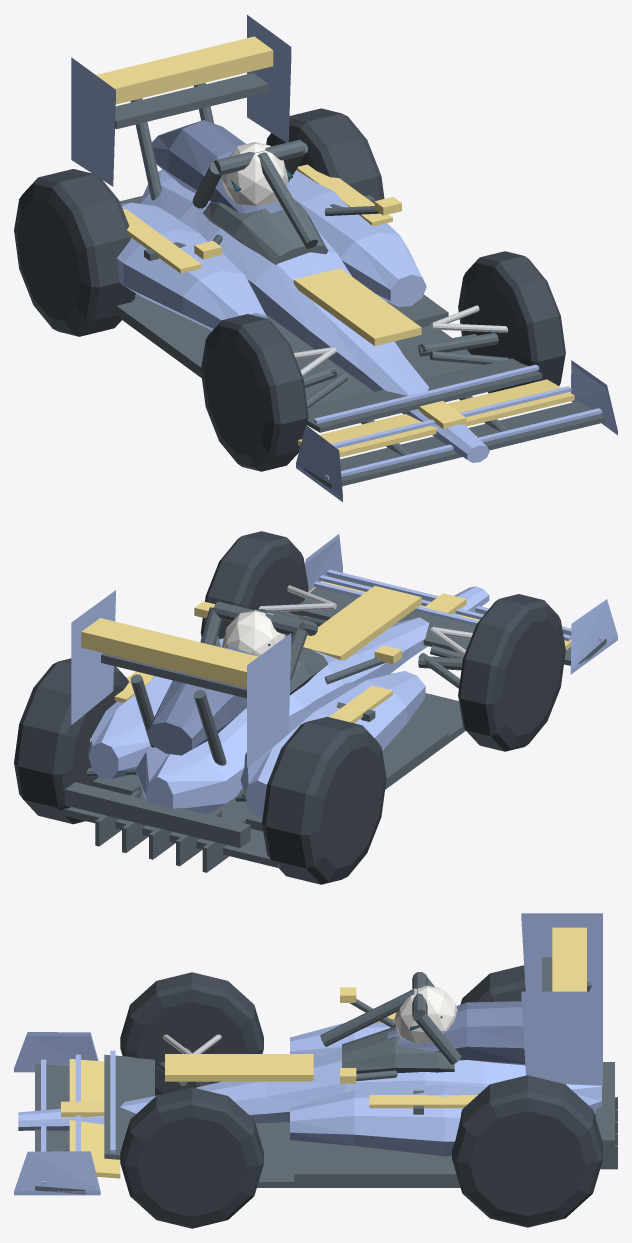
File: redbull_mobile.glb
The picture shows the model from 3 angles, top to bottom: view 1: azimuth 30°, elevation 25°; view 2: azimuth 150°, elevation 25°; view 3: azimuth 270°, elevation 25°; orthographic projection. The views are drawn at different scales.
Visible parts, largest first — view 1: BODY_paint, BODY_carbon, BODY_accent, RearLeftWheel_rubber, FrontLeftWheel_rubber, FrontRightWheel_rubber, RearRightWheel_rubber, BODY_paint_dark, BODY_helmet, BODY_metal; view 2: BODY_paint, BODY_carbon, RearLeftWheel_rubber, FrontLeftWheel_rubber, BODY_accent, RearRightWheel_rubber, FrontRightWheel_rubber, BODY_paint_dark, BODY_helmet, BODY_metal; view 3: BODY_paint, BODY_carbon, RearRightWheel_rubber, FrontRightWheel_rubber, BODY_accent, FrontLeftWheel_rubber, BODY_paint_dark, BODY_helmet, RearLeftWheel_rubber.
Part boxes in pixels (x1,y1,x2,y2): BODY_paint: (71,15,617,501); BODY_carbon: (115,73,605,488); BODY_accent: (96,36,574,457); RearLeftWheel_rubber: (14,169,135,336); FrontLeftWheel_rubber: (200,314,308,471); FrontRightWheel_rubber: (458,251,565,393); RearRightWheel_rubber: (266,108,384,200); BODY_paint_dark: (152,120,283,213); BODY_helmet: (221,142,288,205); BODY_metal: (293,305,508,376); BODY_paint: (71,534,617,816); BODY_carbon: (56,575,606,872); RearLeftWheel_rubber: (262,716,386,884); FrontLeftWheel_rubber: (458,594,565,751); BODY_accent: (81,581,571,722); RearRightWheel_rubber: (14,658,128,824); FrontRightWheel_rubber: (200,531,308,638); BODY_paint_dark: (146,647,257,755); BODY_helmet: (221,610,285,656); BODY_metal: (89,585,472,743); BODY_paint: (14,913,602,1195); BODY_carbon: (35,957,617,1194); RearRightWheel_rubber: (452,1075,602,1227); FrontRightWheel_rubber: (120,1087,263,1228); BODY_accent: (61,927,586,1178); FrontLeftWheel_rubber: (120,972,263,1095); BODY_paint_dark: (387,1001,525,1065); BODY_helmet: (394,985,457,1044); RearLeftWheel_rubber: (460,965,525,1004).
Bounding box in the file's own units: 2.59 × 1.9 × 4.88.
